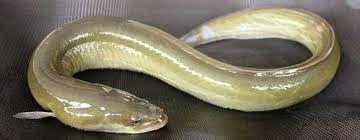Freshwater Eel: (13, 4, 340, 135)
